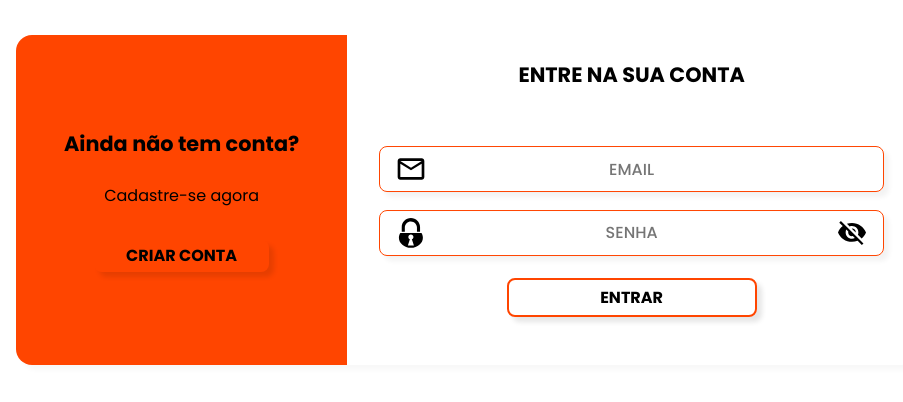
Test case: Login Page › should display error messages when the submit button is clicked with invalid input
This screenshot has width=903, height=402.
In the field with placeholder "email": (632, 169) [379, 146, 884, 192], type "invalidemail"
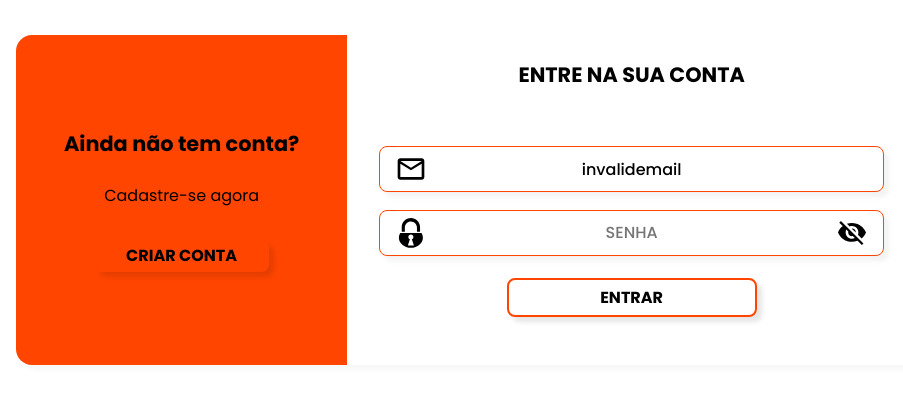
In the password field with placeholder "senha": (632, 233) [379, 210, 884, 256], type "123"
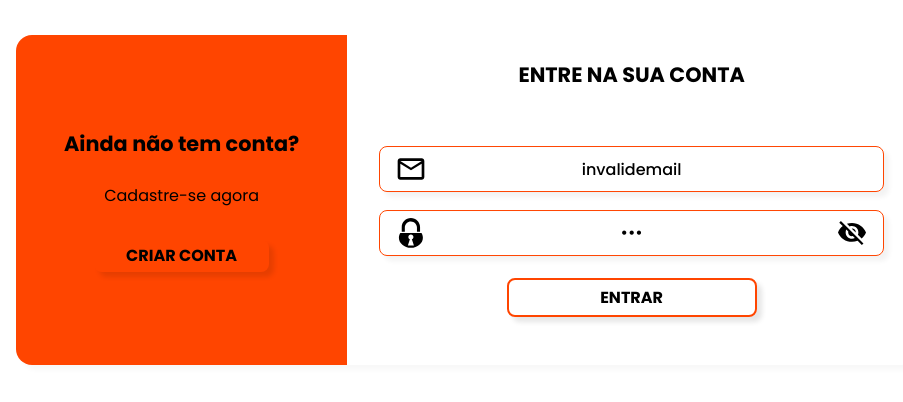
Click the button: (632, 298) [507, 278, 757, 317]
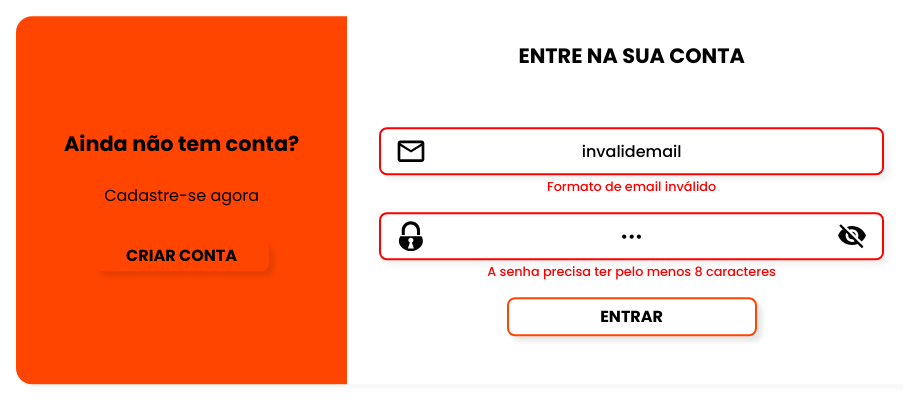
Expected: the text "Formato de email inválido" is shown, [547, 178, 716, 195]
Expected: the text "A senha precisa ter pelo menos 8 caracteres" is shown, [487, 263, 776, 280]
